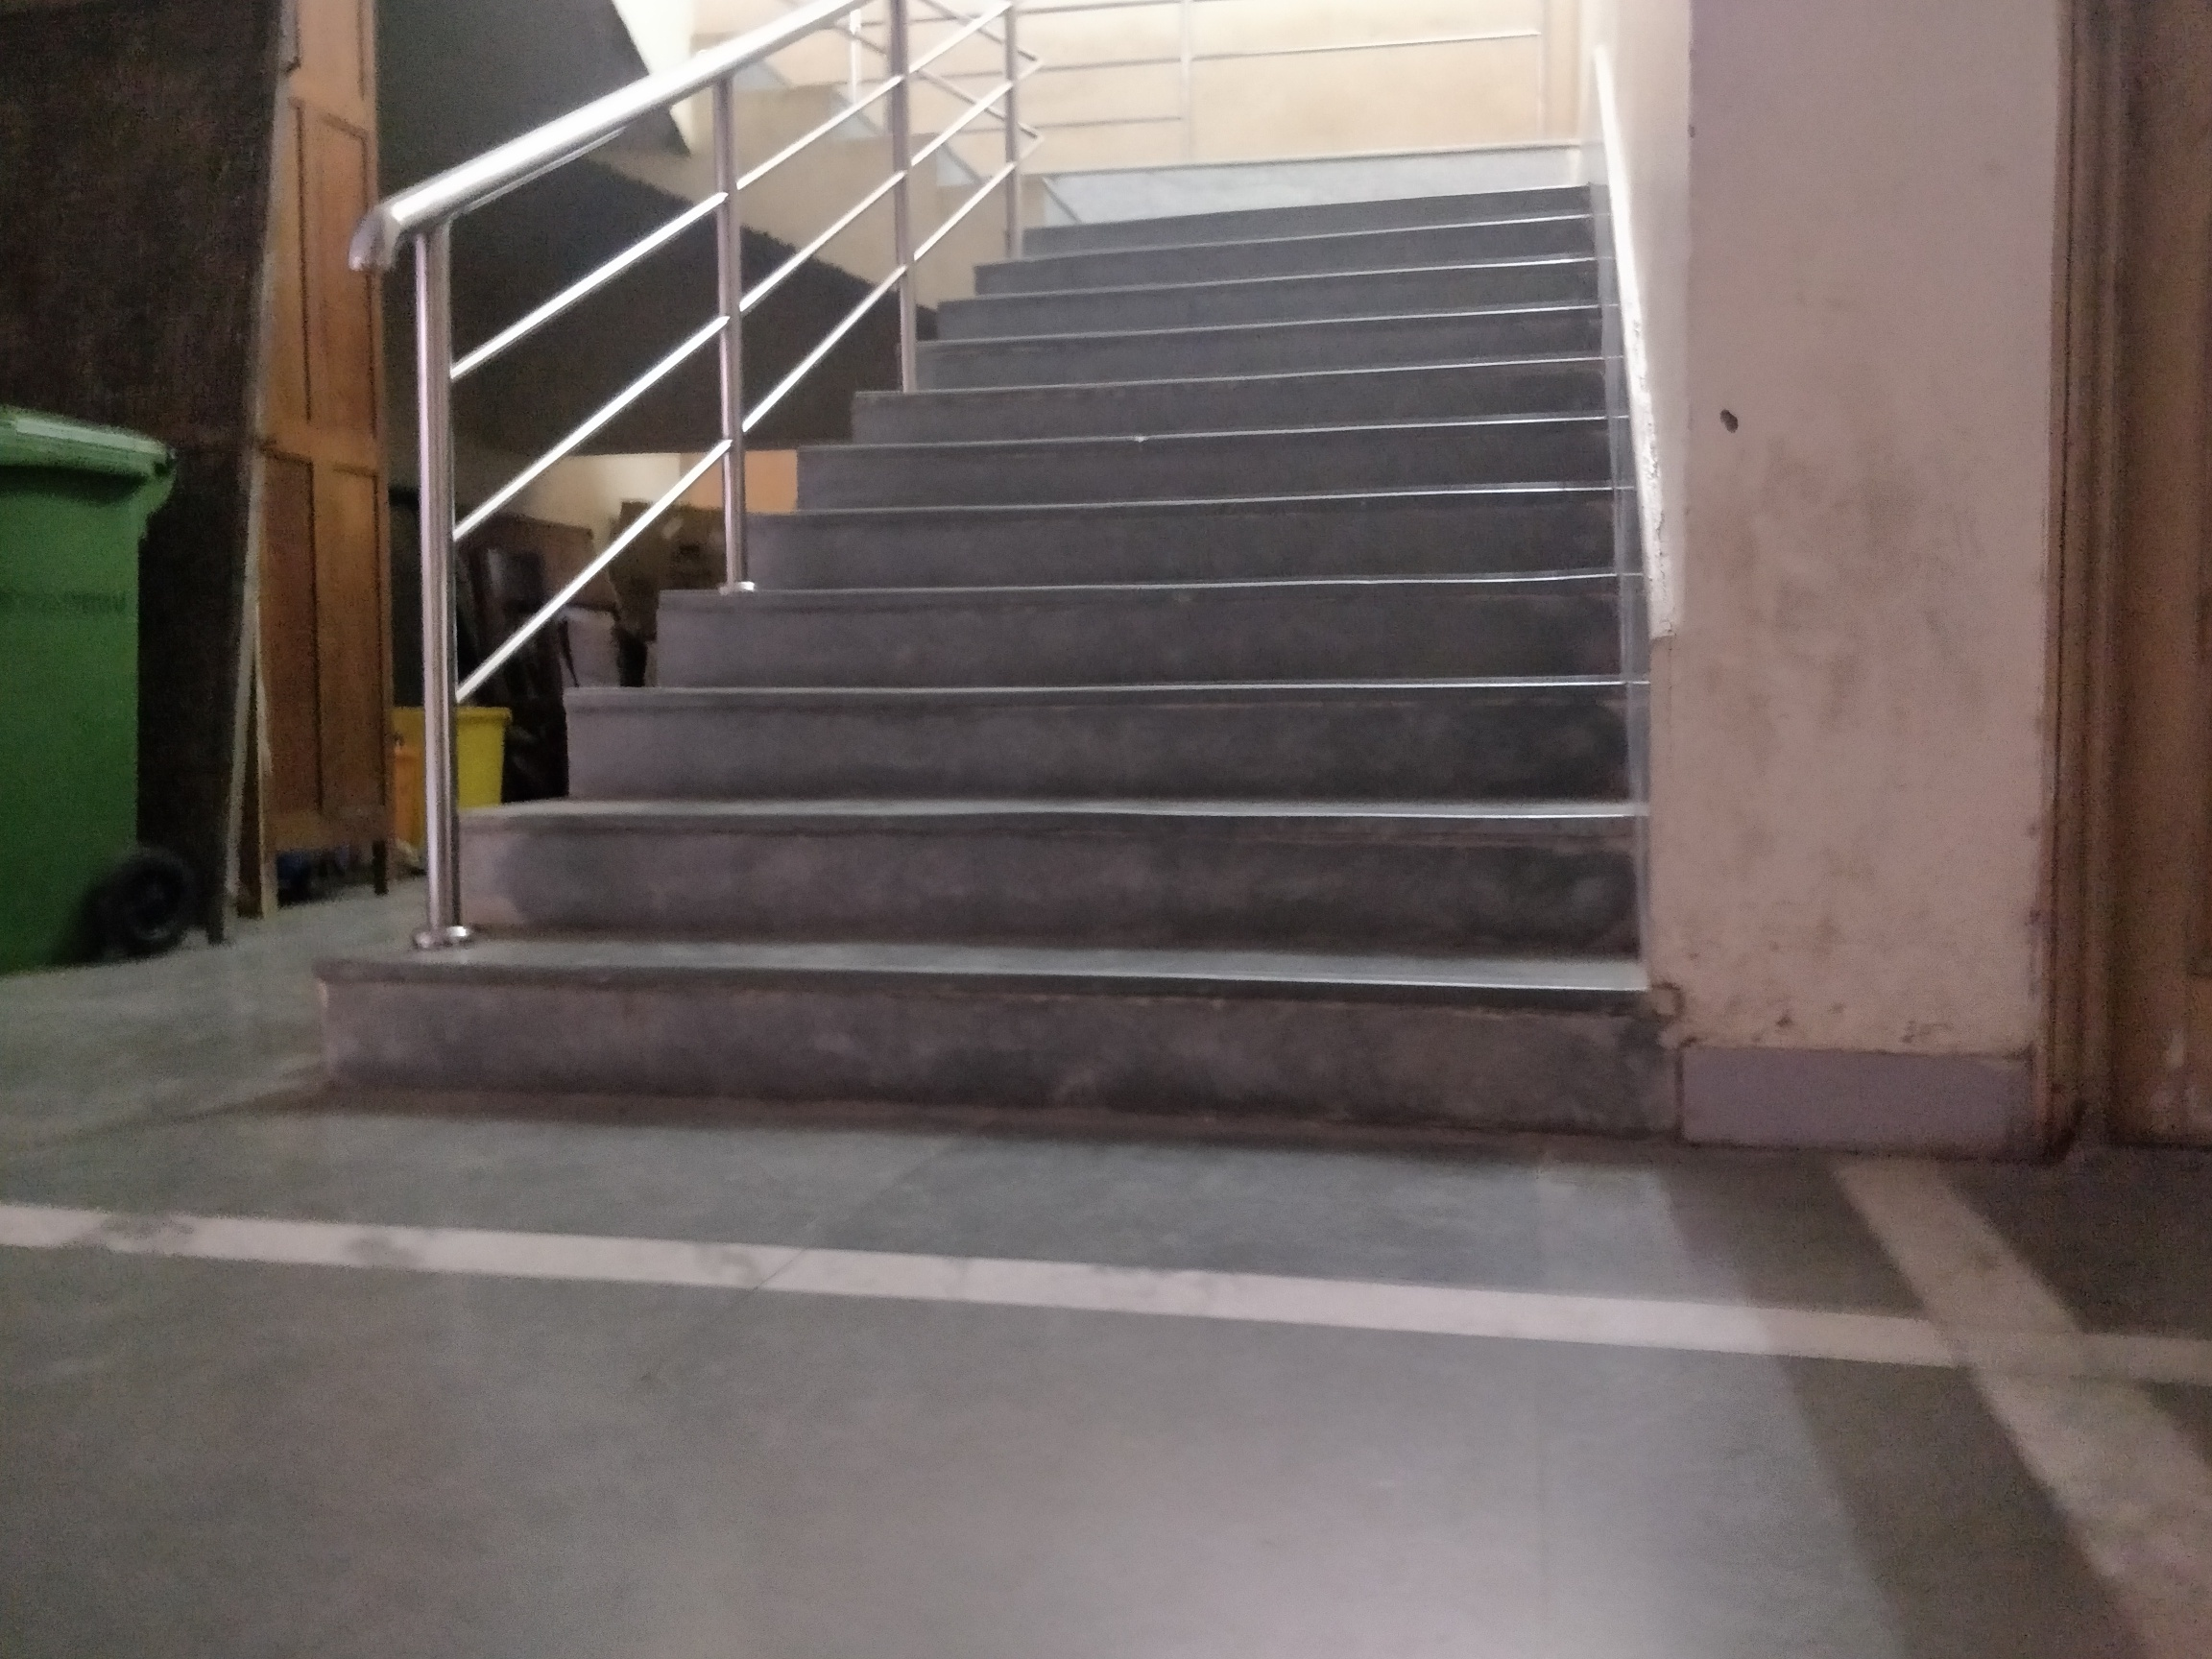stairs_up: (310, 169, 1599, 1157)
